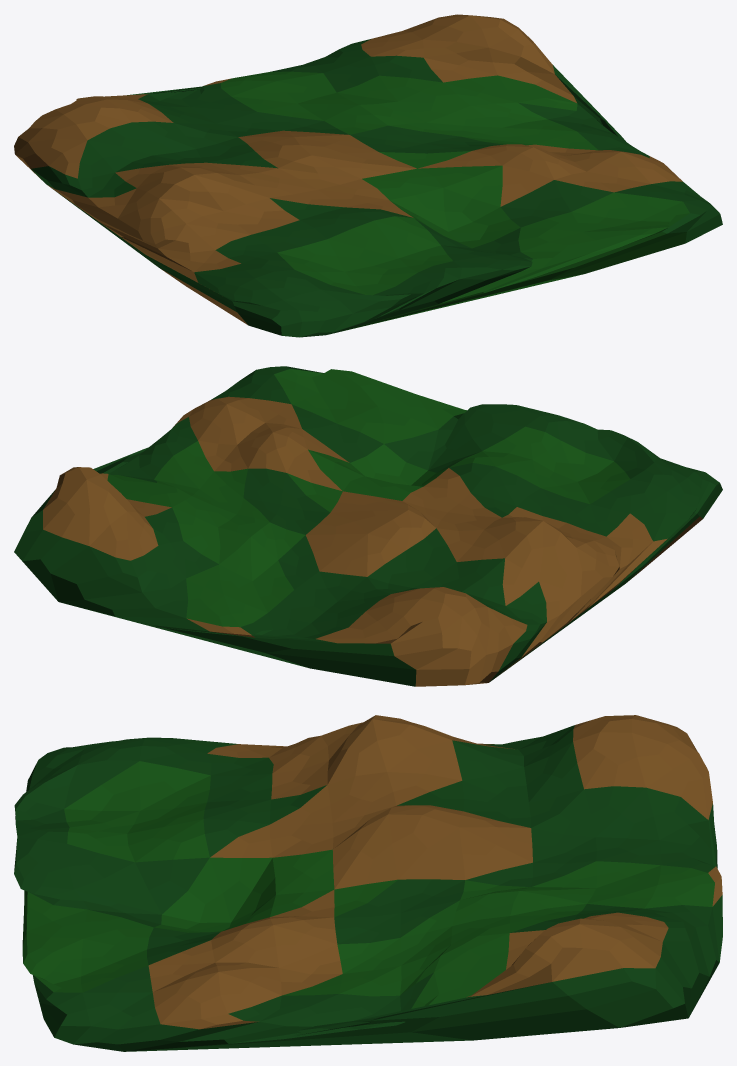
The model's file is _and2.fbx.
The picture shows the model from 3 angles, top to bottom: view 1: azimuth 30°, elevation 25°; view 2: azimuth 150°, elevation 25°; view 3: azimuth 270°, elevation 25°; orthographic projection. The views are drawn at different scales.
Visible parts, largest first — view 1: Land4; view 2: Land4; view 3: Land4.
Boxes of the visible parts, x1,y1,x2,y2 form: Land4: [14, 14, 722, 337]; Land4: [14, 366, 722, 686]; Land4: [14, 715, 722, 1051].
Bounding box in the file's own units: 10336 × 1905 × 10667.
